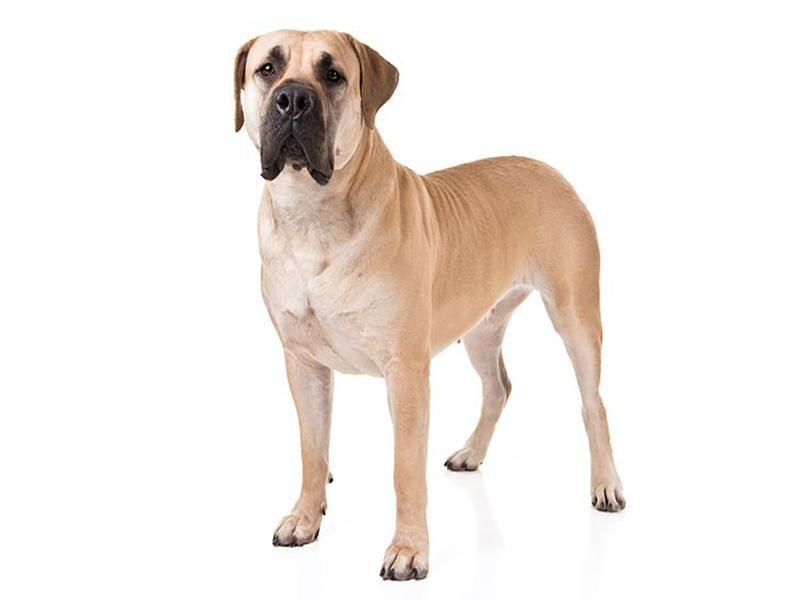dog: (227, 24, 628, 585)
